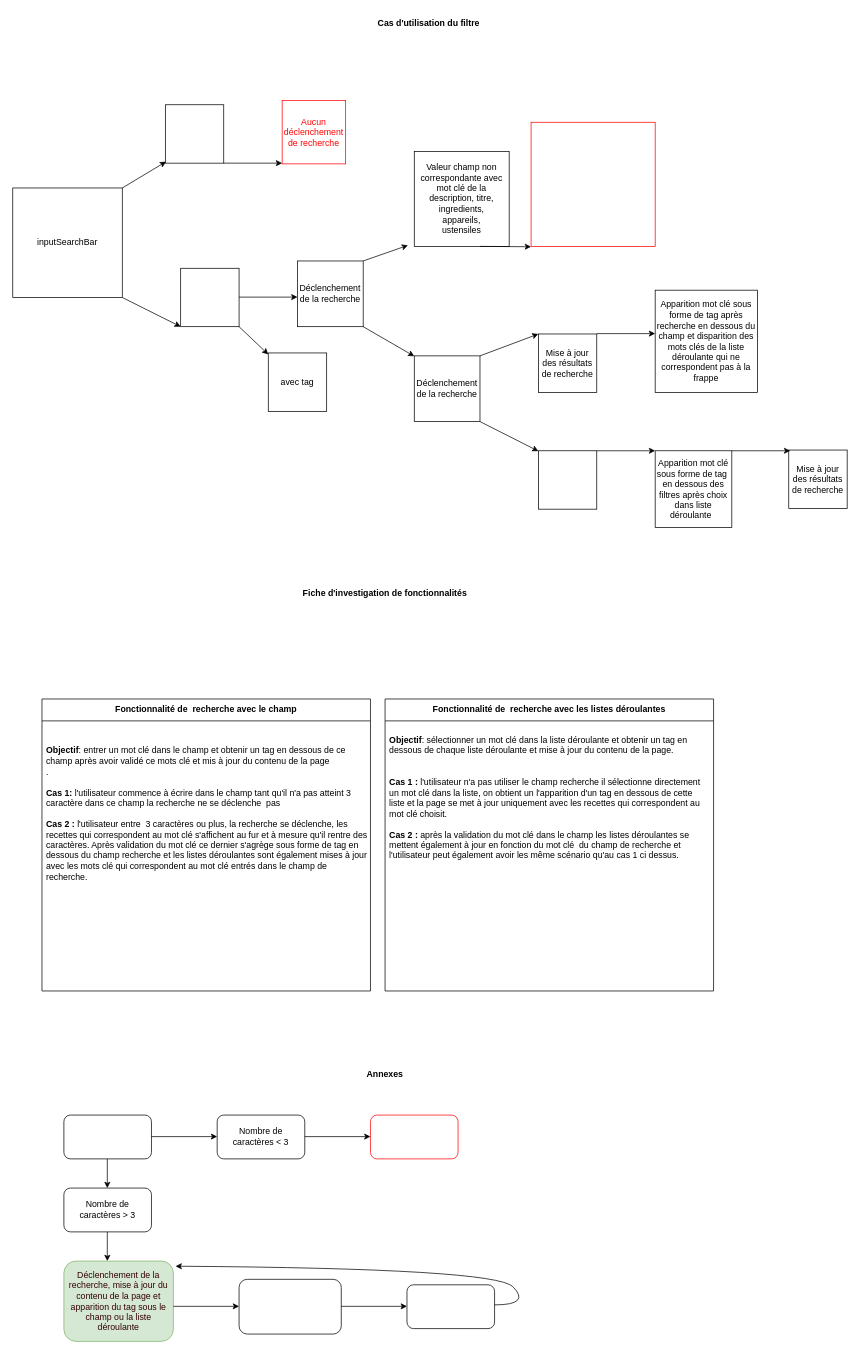
Image size: 860x1354. Some labels were removed from this diagram. Here are the shapes that lost their labels. From the top down, the centre of each, then its label:
point 194,133: searchBar < 3
point 592,184: Aucun résultat de recherche proposition des mots clés à rechercher
point 209,297: searchBar > 3 ou mot clé dans filtres
point 567,479: Mise à jour des valeurs des listes déroulantes.
point 107,1136: Utilisateur écrit dans le champ de recherche
point 414,1136: pas de déclenchement de recherche
point 289,1306: Mise à jour des mots clé des listes déroulantes correspondant au mot clé entré
point 450,1306: Sélection du mot clé dans la liste déroulante
